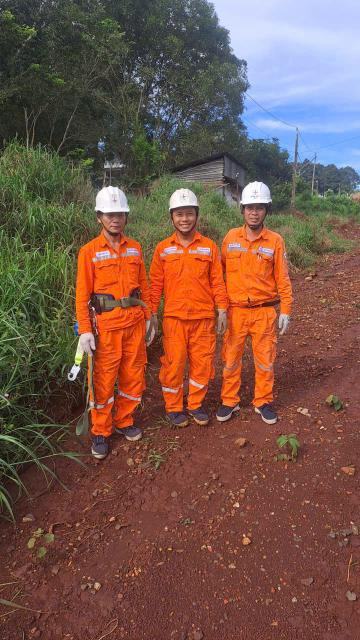gloves: (213, 309, 230, 339), (78, 332, 98, 356), (276, 313, 291, 335), (143, 323, 155, 347)
harness: (88, 288, 150, 311)
helmet: (91, 188, 136, 214), (236, 180, 277, 207), (166, 185, 201, 212)
shoes: (114, 421, 144, 444), (88, 432, 111, 458), (163, 408, 189, 431), (215, 402, 243, 422), (253, 402, 277, 424), (188, 404, 210, 427)
